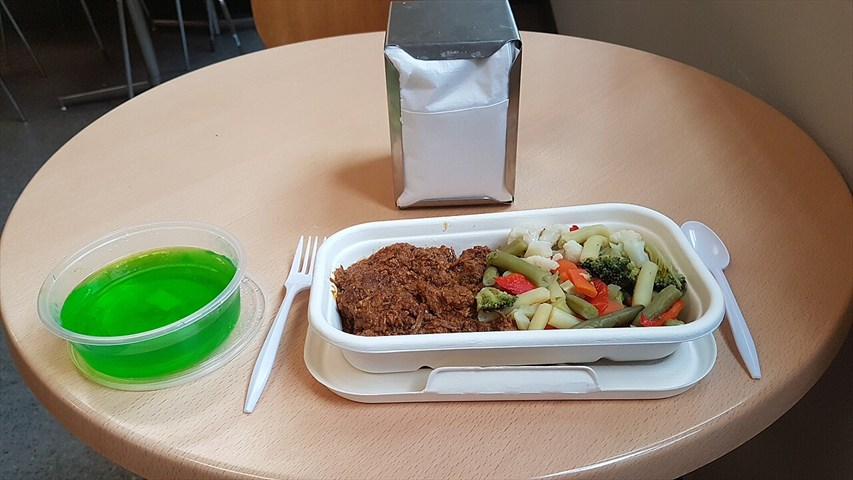Rendang: (77, 43, 728, 405)
